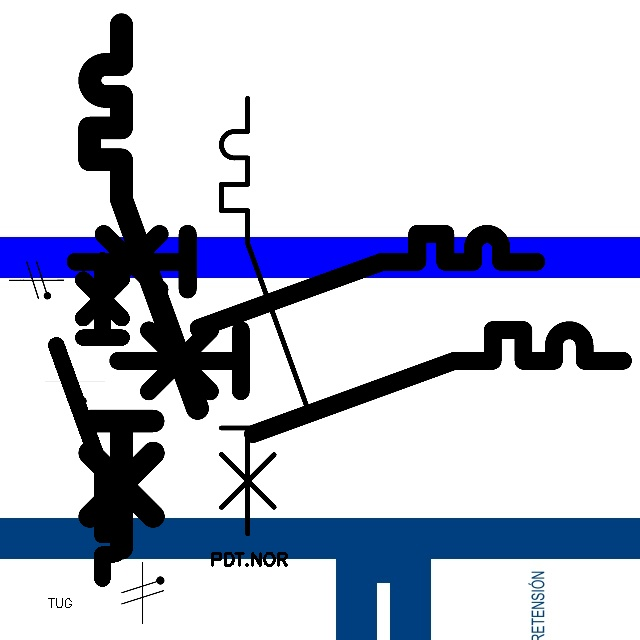interruptor_termomagnetico: (76, 11, 211, 561), (105, 317, 636, 447), (63, 222, 547, 340), (210, 87, 322, 544), (48, 252, 130, 587)
